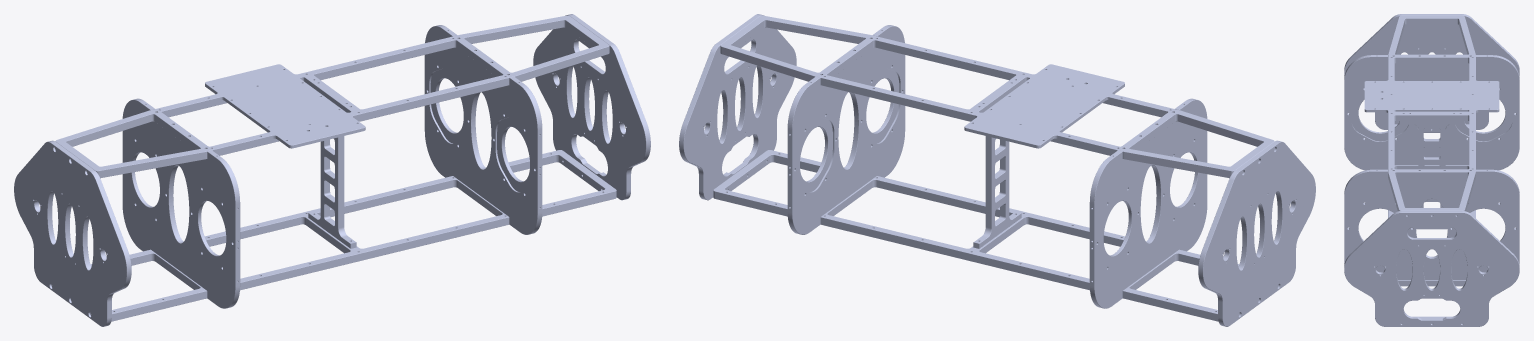
File: trunk.dae
The picture shows the model from 3 angles, left to right: view 1: azimuth 30°, elevation 25°; view 2: azimuth 150°, elevation 25°; view 3: azimuth 270°, elevation 25°; orthographic projection. The views are drawn at different scales.
Parts seen in each view (by area): view 1: node_9ece9246_1e38_450c_a77f_49325eb67dd2_mesh4, node_9ece9246_1e38_450c_a77f_49325eb67dd2_mesh1, node_9ece9246_1e38_450c_a77f_49325eb67dd2_mesh2, node_9ece9246_1e38_450c_a77f_49325eb67dd2_mesh3, node_9ece9246_1e38_450c_a77f_49325eb67dd2_mesh0; view 2: node_9ece9246_1e38_450c_a77f_49325eb67dd2_mesh4, node_9ece9246_1e38_450c_a77f_49325eb67dd2_mesh1, node_9ece9246_1e38_450c_a77f_49325eb67dd2_mesh2, node_9ece9246_1e38_450c_a77f_49325eb67dd2_mesh3, node_9ece9246_1e38_450c_a77f_49325eb67dd2_mesh0; view 3: node_9ece9246_1e38_450c_a77f_49325eb67dd2_mesh4, node_9ece9246_1e38_450c_a77f_49325eb67dd2_mesh1, node_9ece9246_1e38_450c_a77f_49325eb67dd2_mesh2, node_9ece9246_1e38_450c_a77f_49325eb67dd2_mesh3, node_9ece9246_1e38_450c_a77f_49325eb67dd2_mesh0.
Part boxes in pixels (bbox=[...]): node_9ece9246_1e38_450c_a77f_49325eb67dd2_mesh4: bbox=[19, 15, 650, 317]; node_9ece9246_1e38_450c_a77f_49325eb67dd2_mesh1: bbox=[14, 15, 645, 326]; node_9ece9246_1e38_450c_a77f_49325eb67dd2_mesh2: bbox=[40, 20, 650, 326]; node_9ece9246_1e38_450c_a77f_49325eb67dd2_mesh3: bbox=[34, 15, 646, 326]; node_9ece9246_1e38_450c_a77f_49325eb67dd2_mesh0: bbox=[34, 14, 646, 317]; node_9ece9246_1e38_450c_a77f_49325eb67dd2_mesh4: bbox=[679, 15, 1296, 318]; node_9ece9246_1e38_450c_a77f_49325eb67dd2_mesh1: bbox=[679, 15, 1315, 326]; node_9ece9246_1e38_450c_a77f_49325eb67dd2_mesh2: bbox=[683, 15, 1296, 315]; node_9ece9246_1e38_450c_a77f_49325eb67dd2_mesh3: bbox=[679, 20, 1295, 326]; node_9ece9246_1e38_450c_a77f_49325eb67dd2_mesh0: bbox=[688, 14, 1310, 313]; node_9ece9246_1e38_450c_a77f_49325eb67dd2_mesh4: bbox=[1344, 14, 1519, 326]; node_9ece9246_1e38_450c_a77f_49325eb67dd2_mesh1: bbox=[1344, 18, 1519, 326]; node_9ece9246_1e38_450c_a77f_49325eb67dd2_mesh2: bbox=[1344, 14, 1519, 326]; node_9ece9246_1e38_450c_a77f_49325eb67dd2_mesh3: bbox=[1344, 16, 1519, 324]; node_9ece9246_1e38_450c_a77f_49325eb67dd2_mesh0: bbox=[1344, 14, 1519, 324].
Bounding box in the file's own units: 858 × 320 × 230.
